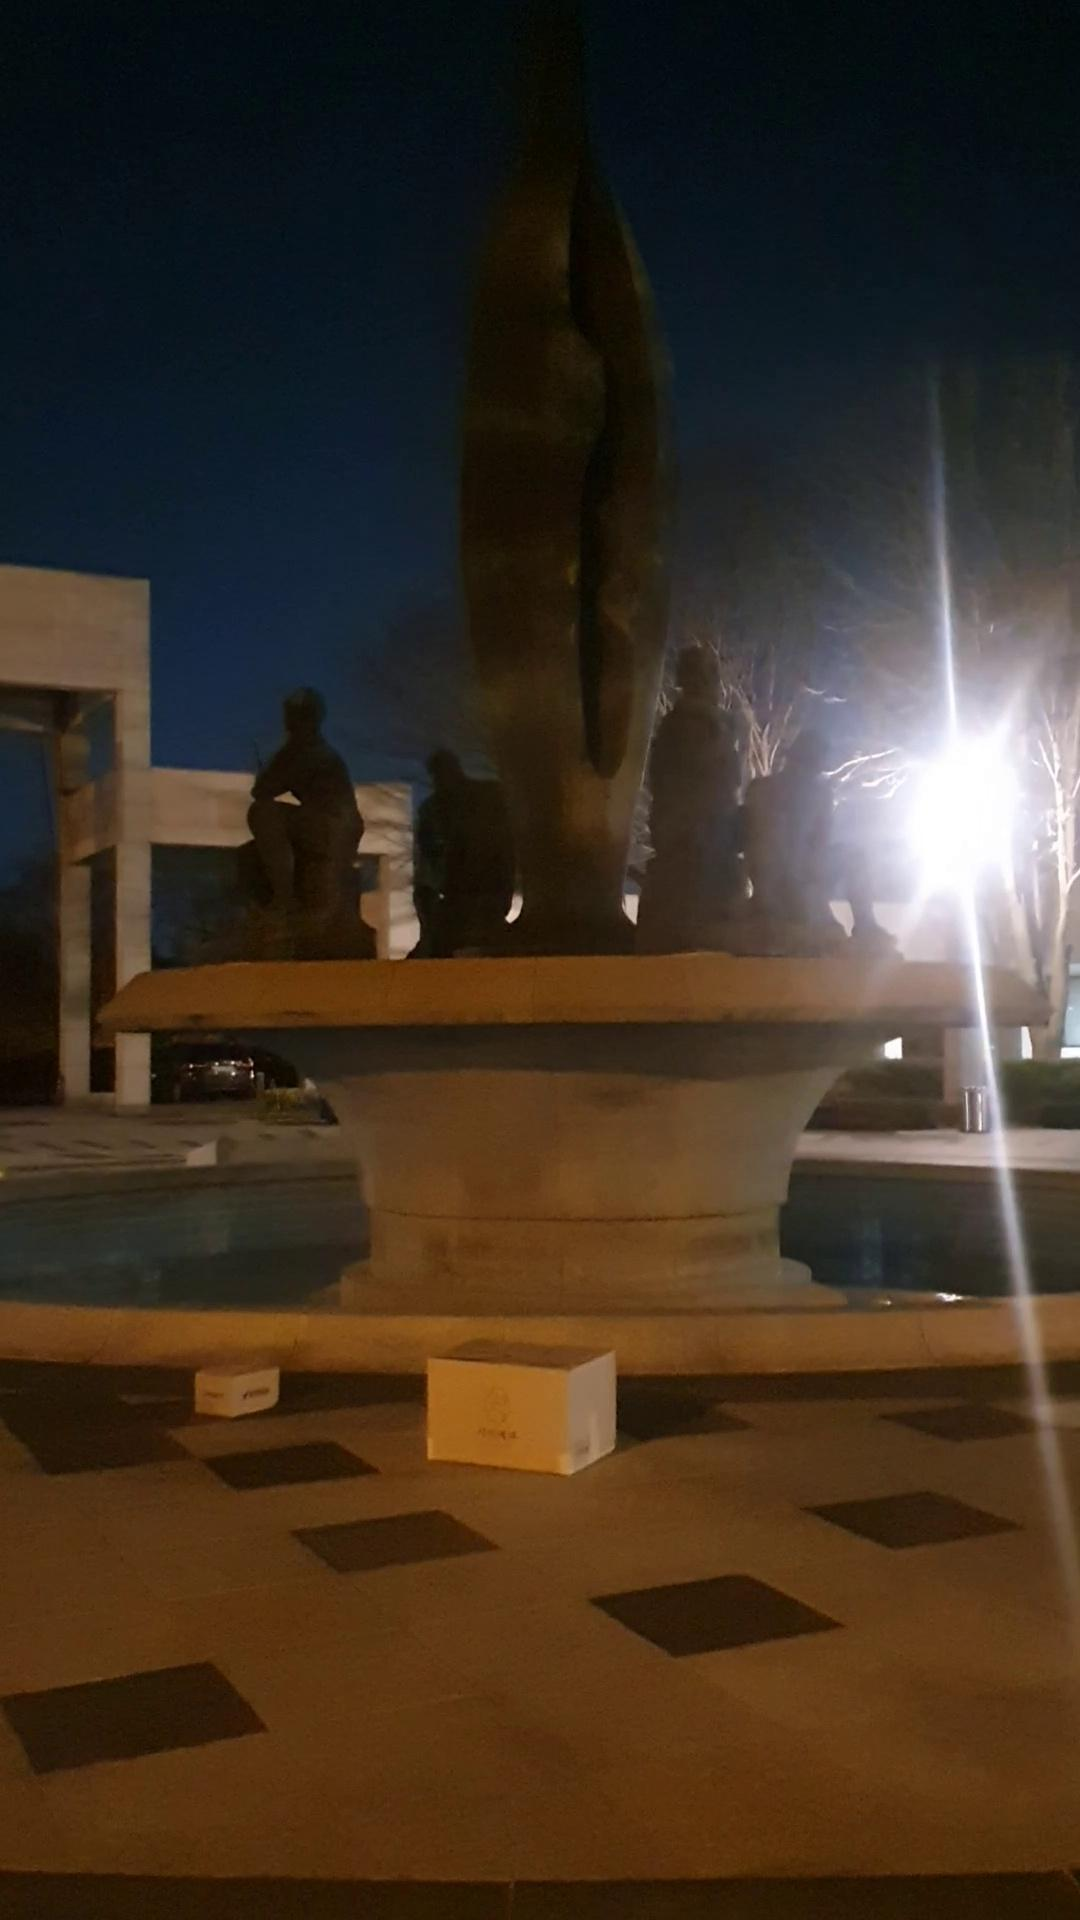Box: (415, 1335, 625, 1476), (186, 1350, 285, 1425)
